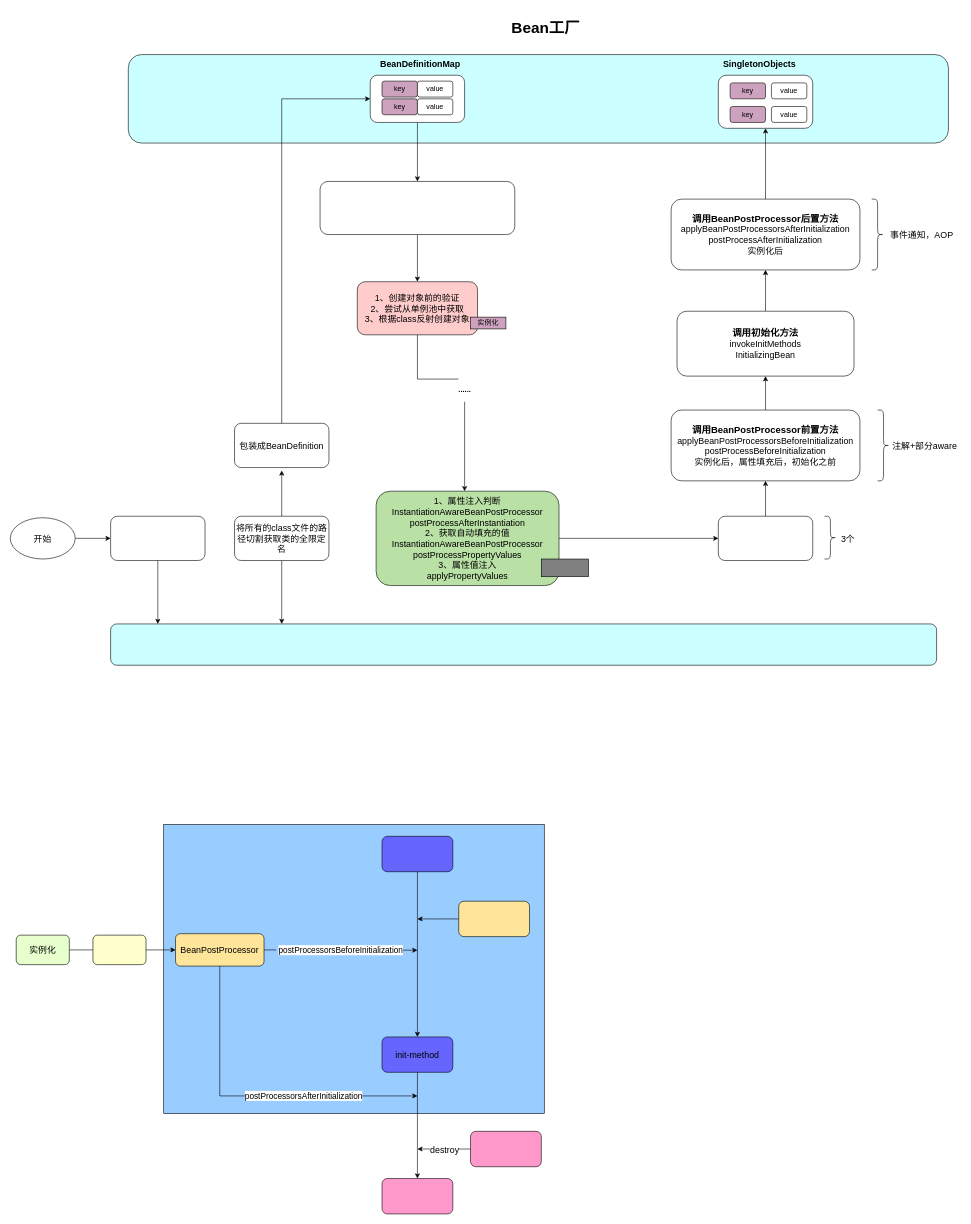
Image size: 971x1224. Some labels were removed from this diagram. Here are the shapes that lost their labels. From the top down, the centre of each, then its label:
At [417,208]: "回调，进行BeanDefinition的修改 BeanFactoryPostProcessor#postProcessorBeanFactory".
At [157,538]: "扫描给定包下的class，获取所有class文件的全路径".
At [765,538]: "调用部分Aware接口 invokeAwareMethods".
At [565,567]: "属性填充".
At [523,644]: "项目所在磁盘目录".
At [417,854]: "初始化".
At [494,919]: "xxxAware".
At [119,950]: "填充属性".
At [505,1149]: "DisposableBean".
At [417,1196]: "destroy-method".
